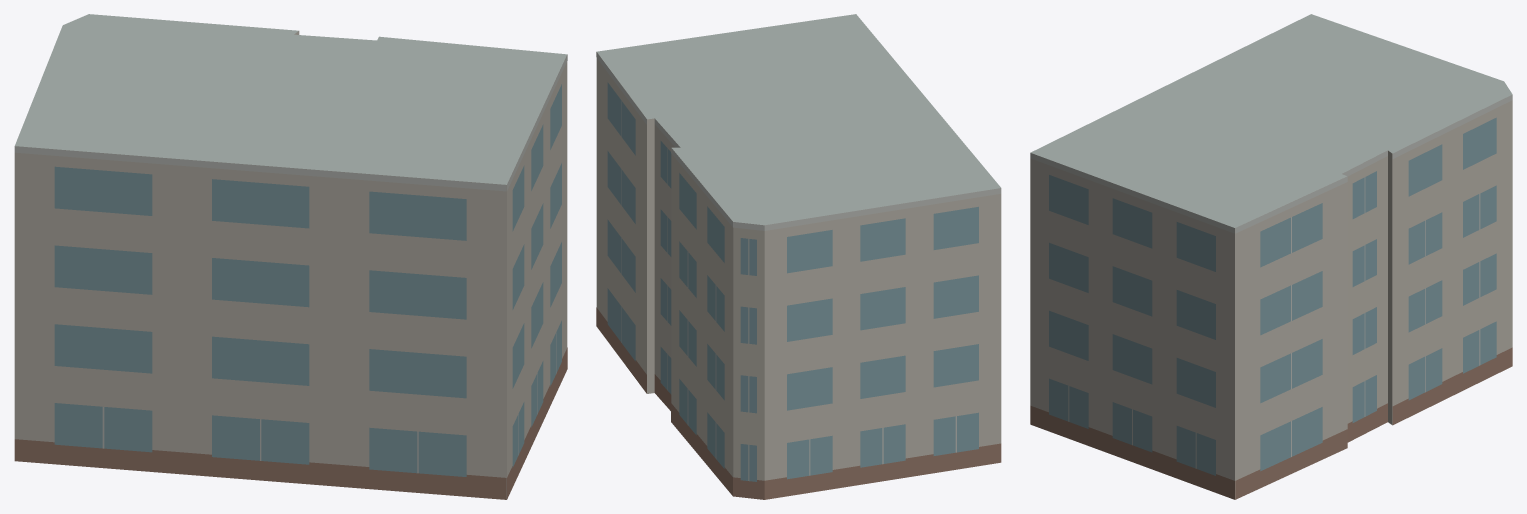
Rendered from survey-upis-32657780.glb.
3 renders of one model, left to right at view 1: azimuth 30°, elevation 25°; view 2: azimuth 150°, elevation 25°; view 3: azimuth 270°, elevation 25°, orthographic. The views are drawn at different scales.
Visible parts, largest first — view 1: survey-upis-32657780.tmp; view 2: survey-upis-32657780.tmp; view 3: survey-upis-32657780.tmp.
Part boxes in pixels (bbox=[...]): survey-upis-32657780.tmp: bbox=[14, 14, 567, 499]; survey-upis-32657780.tmp: bbox=[596, 14, 1001, 499]; survey-upis-32657780.tmp: bbox=[1030, 14, 1512, 499].
Size of the model in its own units: 19.78 by 11.7 by 18.83.
